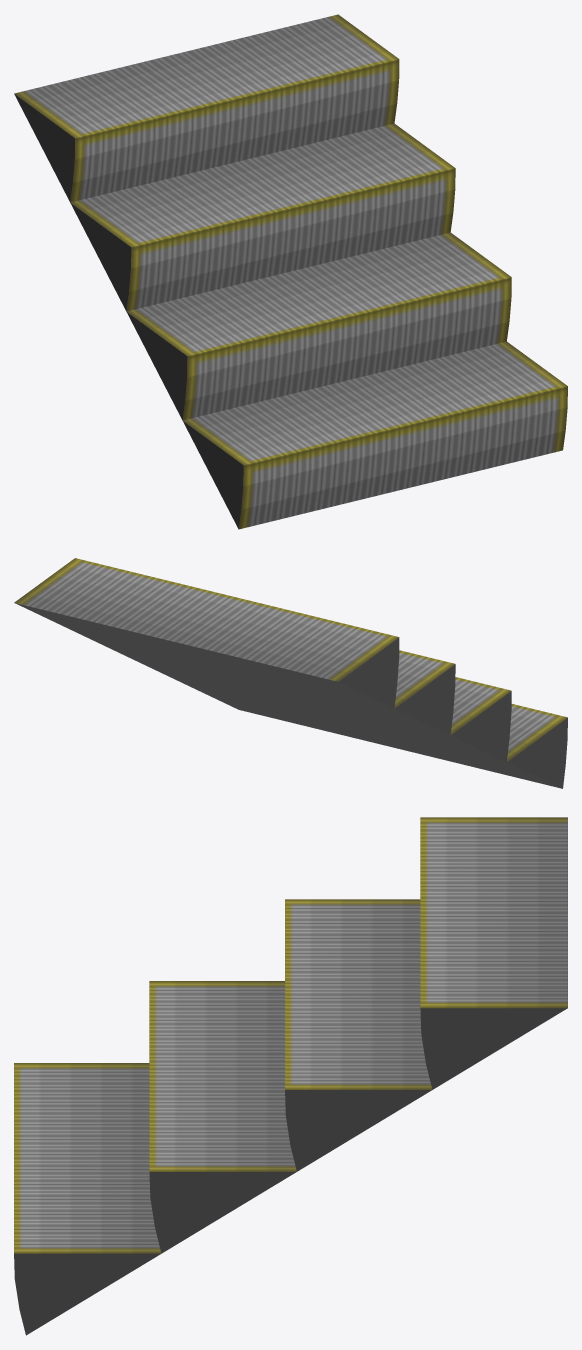
The model's file is SW_ENV_Escalator_4Step.fbx.
The picture shows the model from 3 angles, top to bottom: view 1: azimuth 30°, elevation 25°; view 2: azimuth 150°, elevation 25°; view 3: azimuth 270°, elevation 25°; orthographic projection. The views are drawn at different scales.
Visible parts, largest first — view 1: SW_ENV_Escalator_4Step; view 2: SW_ENV_Escalator_4Step; view 3: SW_ENV_Escalator_4Step.
Part boxes in pixels (left/top/right/bottom): SW_ENV_Escalator_4Step: left=14, top=14, right=567, bottom=529; SW_ENV_Escalator_4Step: left=14, top=558, right=567, bottom=788; SW_ENV_Escalator_4Step: left=14, top=817, right=567, bottom=1335.
Size of the model in its own units: 100 by 80 by 123.
